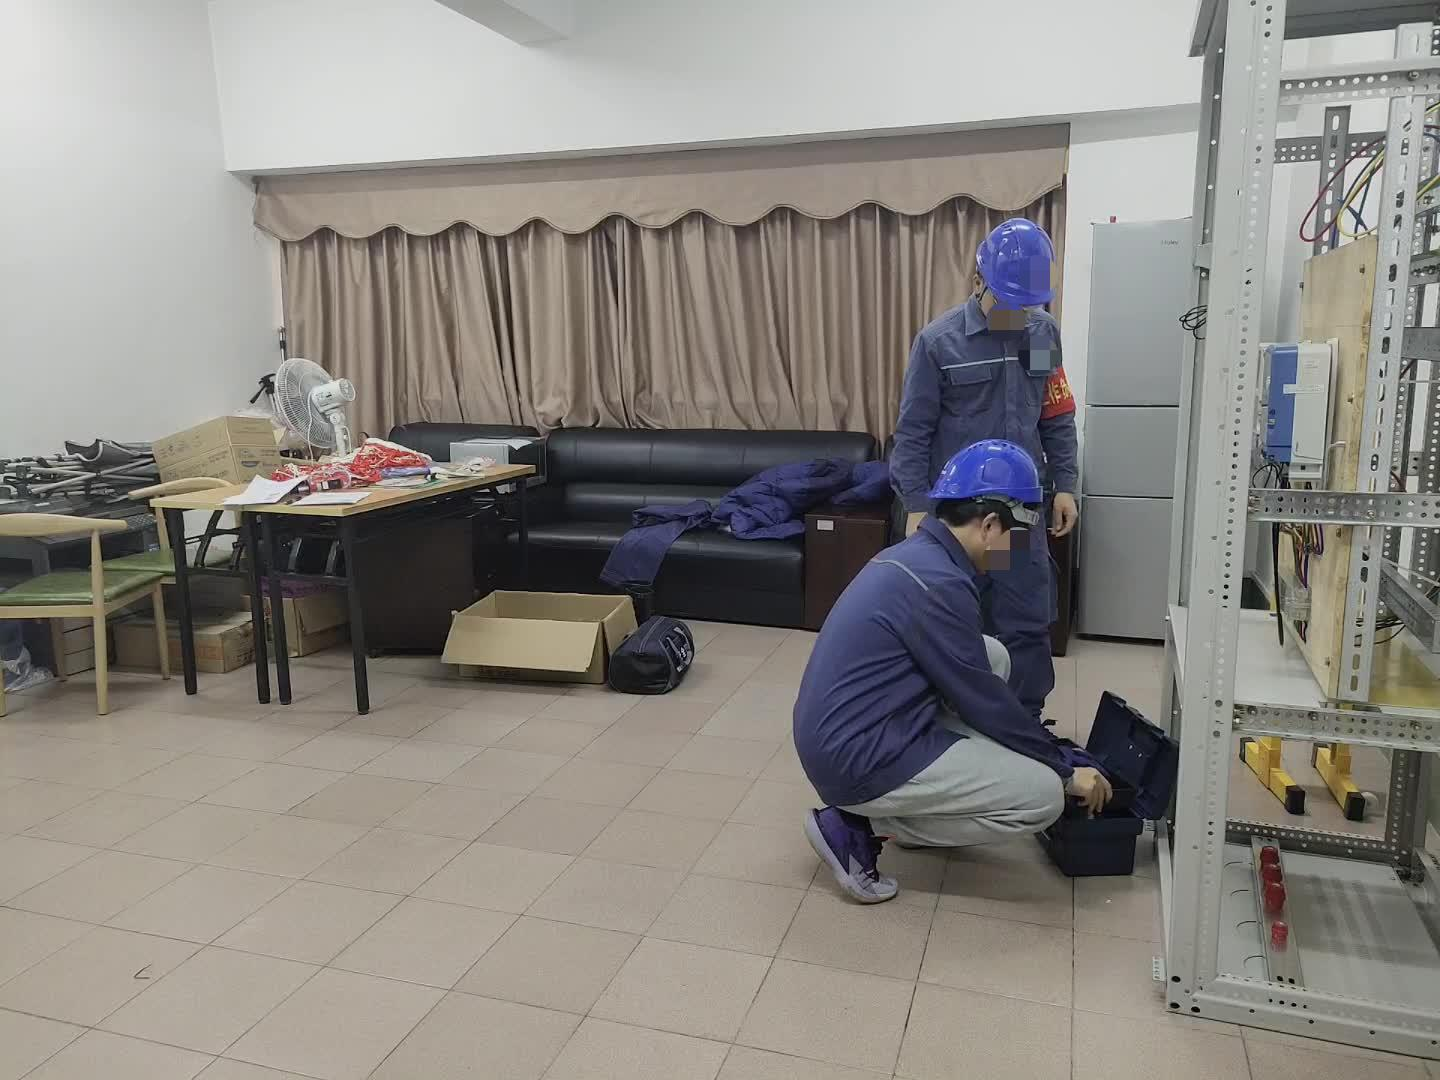halt: (977, 219, 1059, 326)
noear: (974, 513, 1010, 567)
